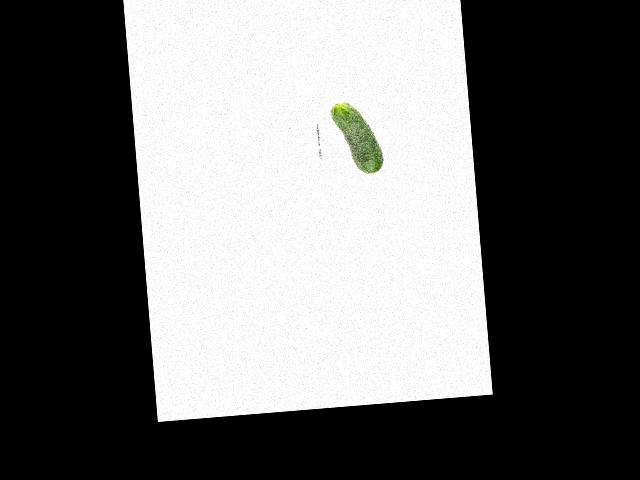cucumber: (329, 100, 384, 177)
